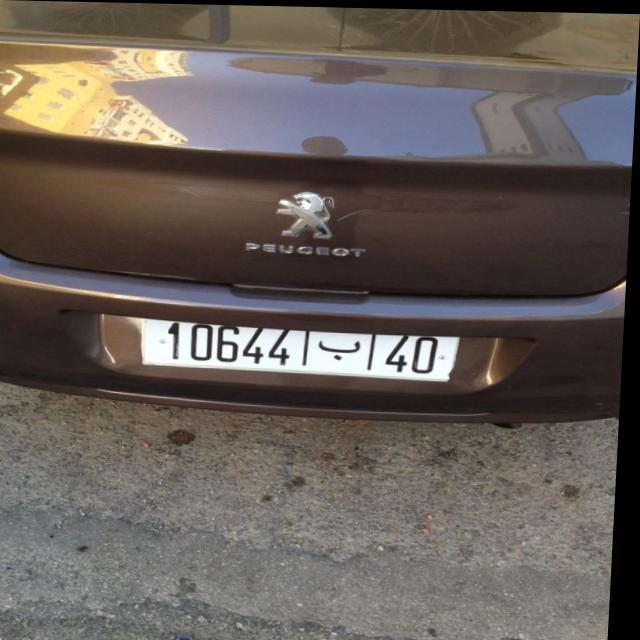License-Plate: (145, 318, 461, 379)
